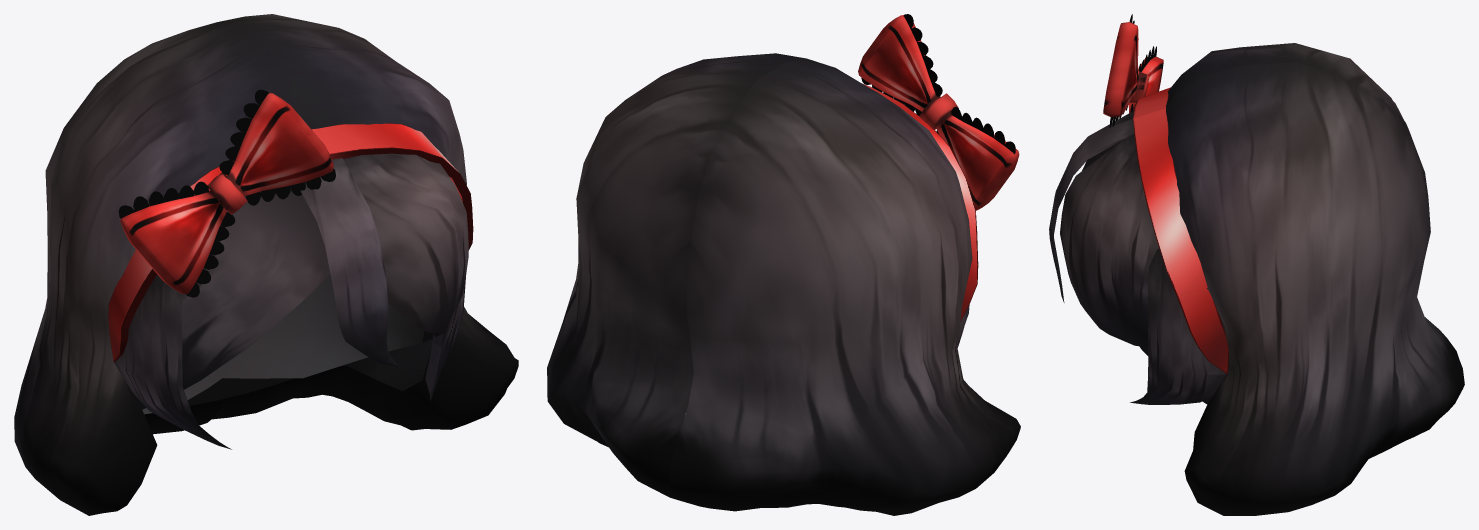
Rendered from helmet_HeadbandOfSnowWhite.FBX.
3 views of the same model, side by side, from view 1: azimuth 30°, elevation 25°; view 2: azimuth 150°, elevation 25°; view 3: azimuth 270°, elevation 25° (orthographic). The views are drawn at different scales.
Visible parts, largest first — view 1: Object003; view 2: Object003; view 3: Object003.
Boxes of the visible parts, <box> form: Object003: <box>14,14,518,515</box>; Object003: <box>547,14,1020,515</box>; Object003: <box>1049,14,1464,515</box>.
Size of the model in its own units: 166 by 154 by 146.
